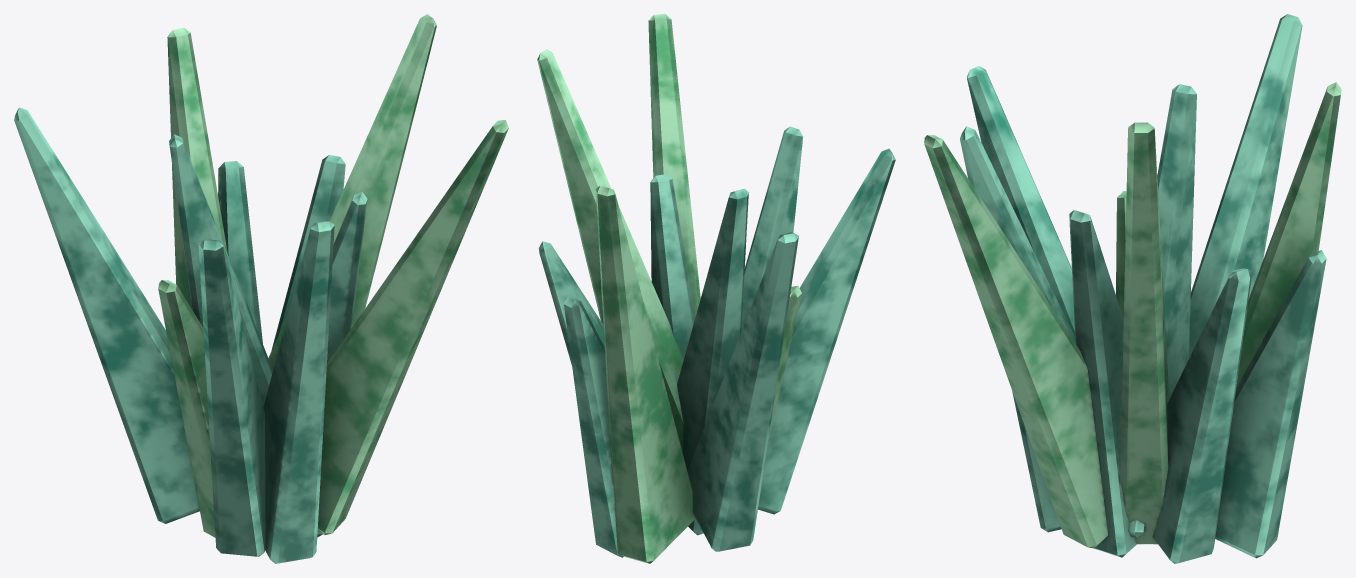
File: Abysses_Touffe.fbx
3 renders of one model, left to right at view 1: azimuth 30°, elevation 25°; view 2: azimuth 150°, elevation 25°; view 3: azimuth 270°, elevation 25°, orthographic. The views are drawn at different scales.
Parts seen in each view (by area): view 1: Abysses_Touffe; view 2: Abysses_Touffe; view 3: Abysses_Touffe.
Part boxes in pixels (<box>): Abysses_Touffe: <box>14,14,508,563</box>; Abysses_Touffe: <box>537,14,895,563</box>; Abysses_Touffe: <box>924,14,1341,563</box>.
Bounding box in the file's own units: 242 × 311 × 238.
Materials: 1 (1 with a texture image).
